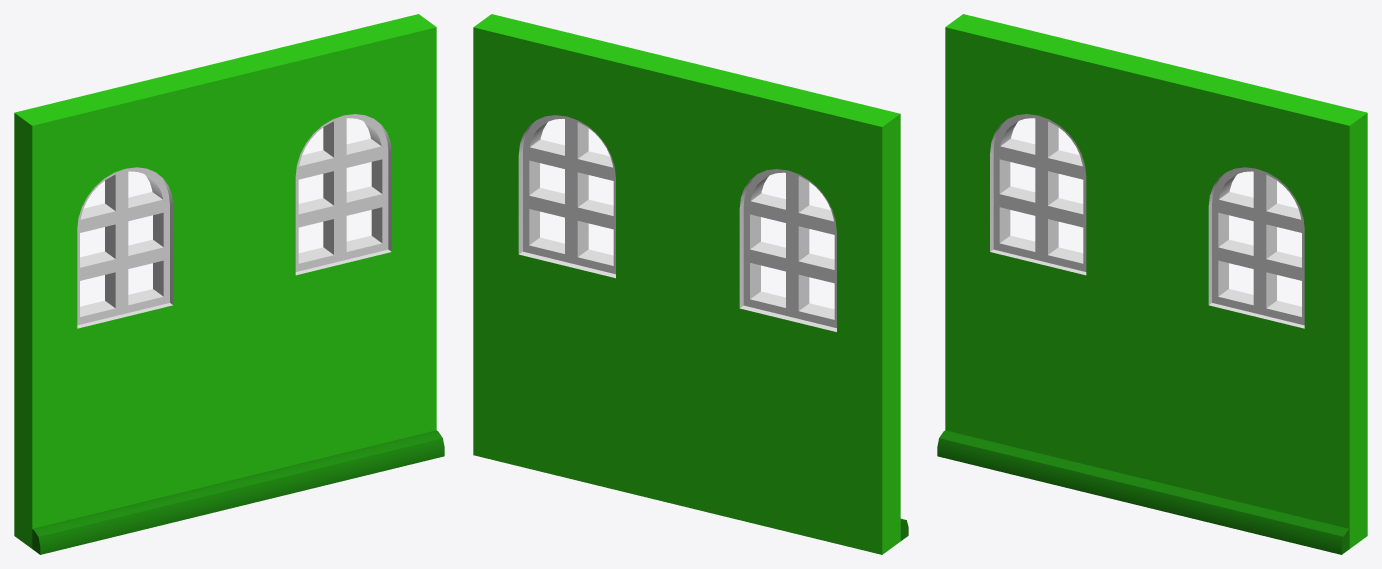
The model's file is G_Wall002.fbx.
The picture shows the model from 3 angles, left to right: view 1: azimuth 30°, elevation 25°; view 2: azimuth 150°, elevation 25°; view 3: azimuth 330°, elevation 25°; orthographic projection.
Parts seen in each view (by area): view 1: Wall002.002; view 2: Wall002.002; view 3: Wall002.002.
Part boxes in pixels (x1=…): Wall002.002: x1=14, y1=14, x2=444, y2=554; Wall002.002: x1=473, y1=14, x2=908, y2=554; Wall002.002: x1=937, y1=14, x2=1367, y2=554.
Size of the model in its own units: 250 by 250 by 27.87.
1 material, 1 textured.
